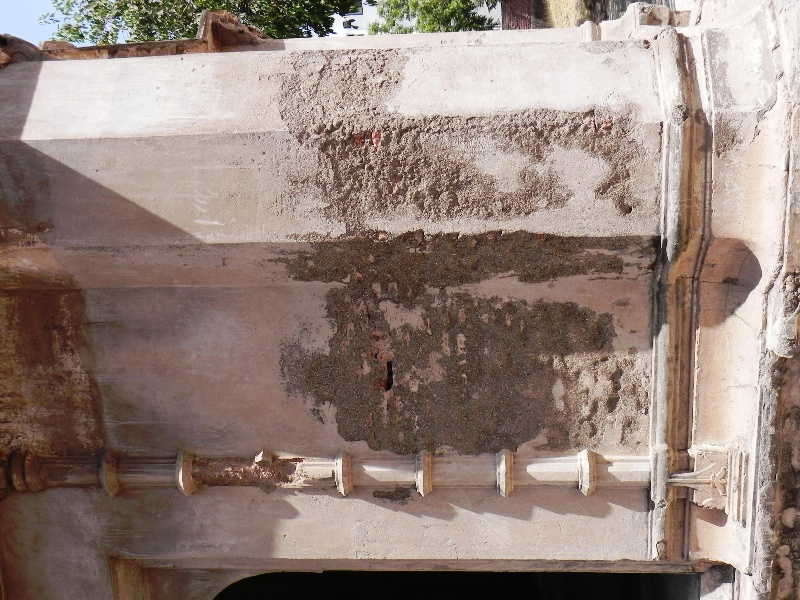Spalling: (261, 43, 646, 447)
